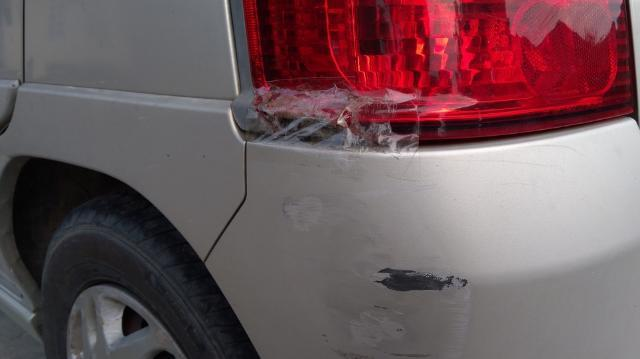Bumper: (239, 137, 640, 359)
